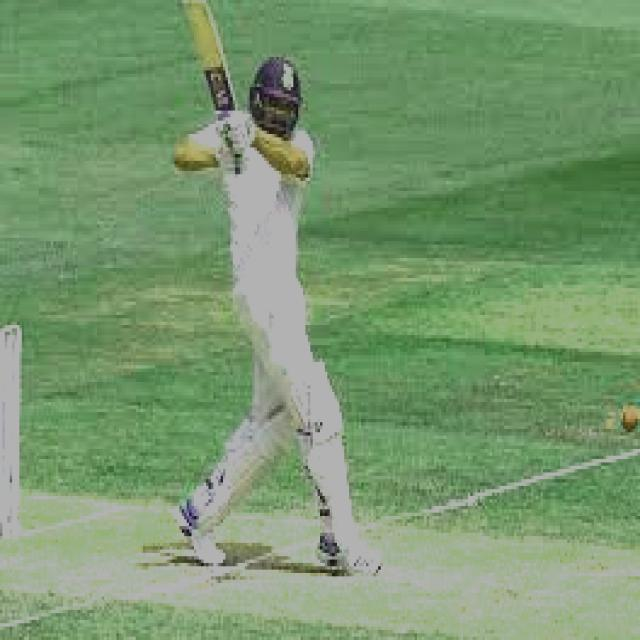toe: (172, 0, 208, 13)
